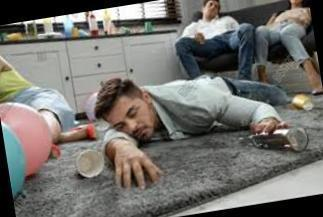Drunk: (108, 99, 155, 140)
